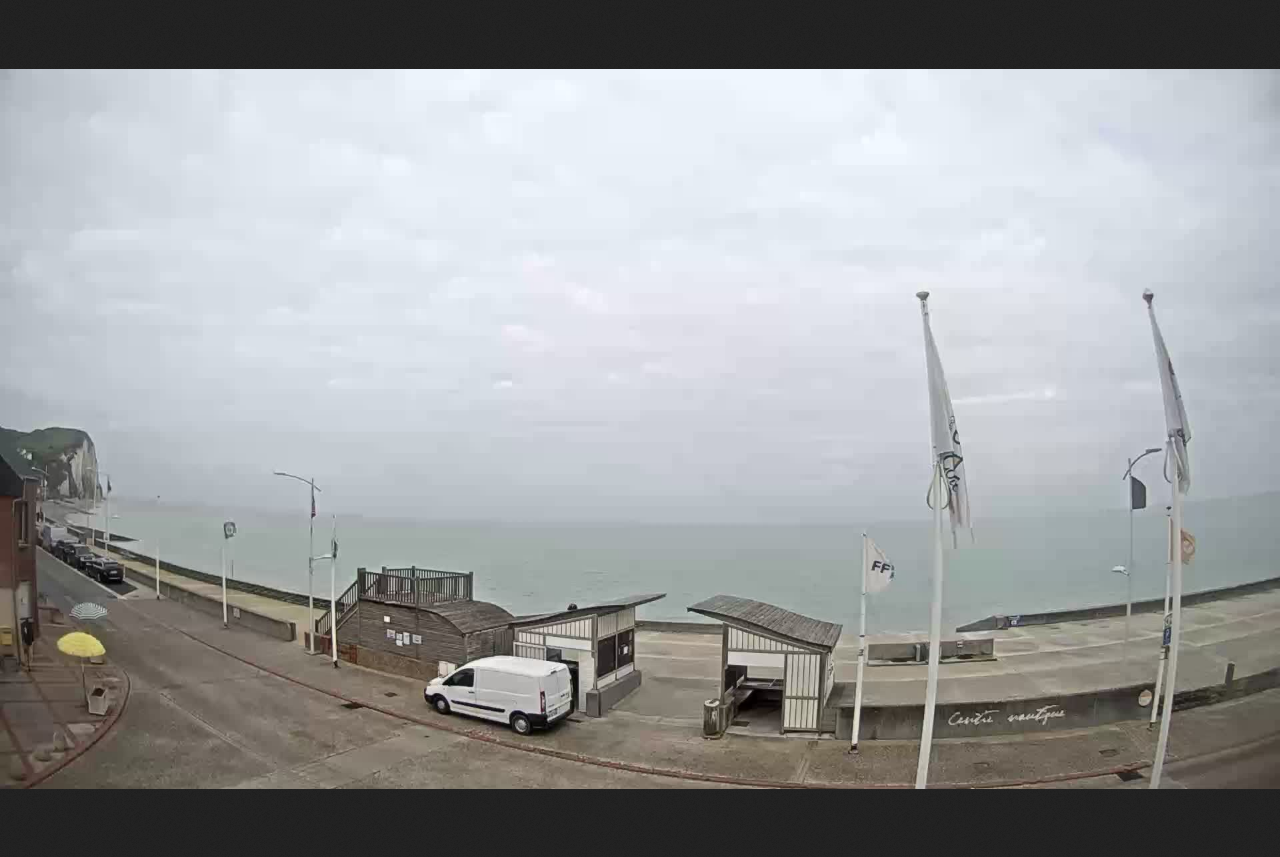no: (912, 282, 982, 537), (1139, 277, 1204, 496)
